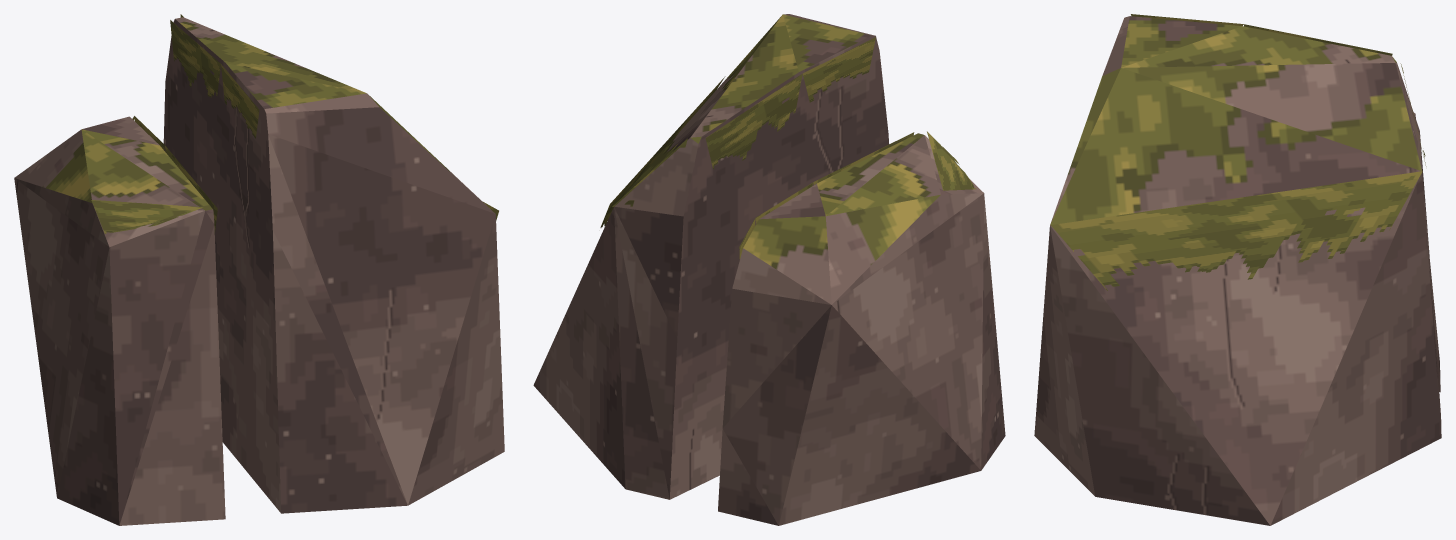
File: SM_RK06_BoulderSplit.fbx
3 renders of one model, left to right at view 1: azimuth 30°, elevation 25°; view 2: azimuth 150°, elevation 25°; view 3: azimuth 270°, elevation 25°, orthographic. The views are drawn at different scales.
Visible parts, largest first — view 1: RK06_Rock, RK06_RockTop, RK06_Moss; view 2: RK06_Rock, RK06_RockTop, RK06_Moss; view 3: RK06_Rock, RK06_RockTop, RK06_Moss.
Part boxes in pixels (x1,y1,x2,y2): RK06_Rock: (14, 19, 504, 525); RK06_RockTop: (14, 17, 489, 210); RK06_Moss: (91, 14, 498, 234); RK06_Rock: (533, 14, 1005, 525); RK06_RockTop: (622, 14, 940, 304); RK06_Moss: (600, 37, 975, 258); RK06_Rock: (1034, 16, 1441, 525); RK06_RockTop: (1050, 16, 1421, 225); RK06_Moss: (1051, 14, 1426, 290).
Size of the model in its own units: 1.6 by 1.32 by 1.3.
